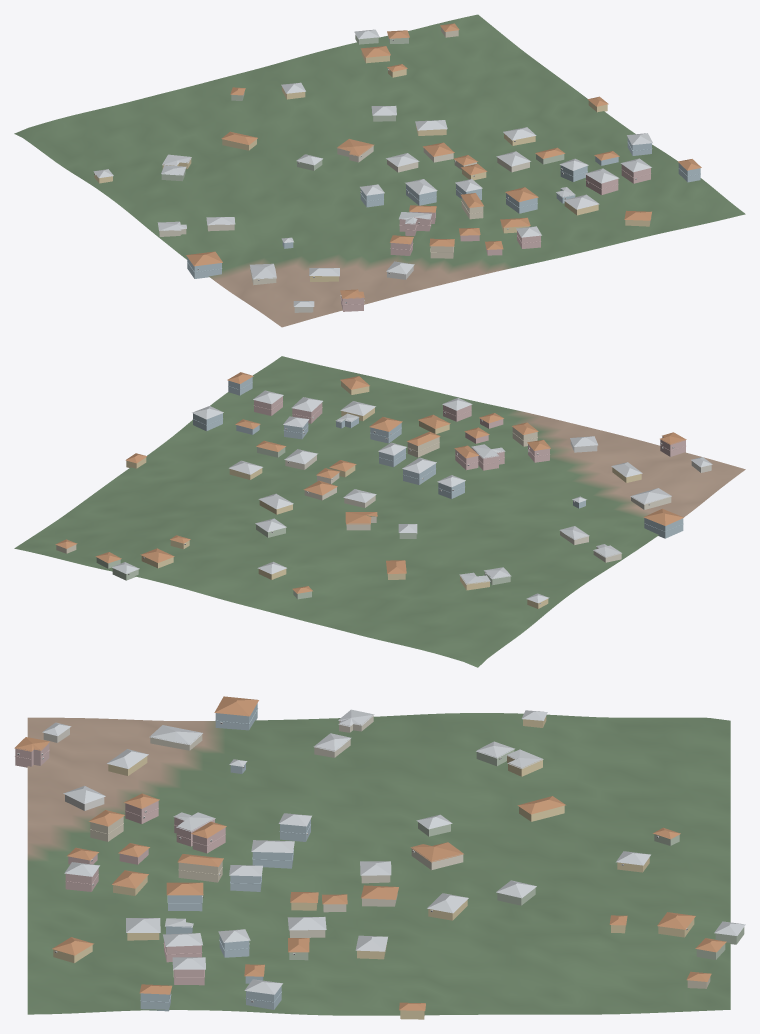
3 renders of one model, top to bottom at view 1: azimuth 30°, elevation 25°; view 2: azimuth 150°, elevation 25°; view 3: azimuth 270°, elevation 25°, orthographic. The views are drawn at different scales.
Parts seen in each view (by area): view 1: Terrain-col, Buildings-col, Details; view 2: Terrain-col, Buildings-col, Details; view 3: Terrain-col, Buildings-col, Details.
Boxes of the visible parts, x1=… form: Terrain-col: x1=14, y1=14, x2=745, y2=327; Buildings-col: x1=93, y1=23, x2=701, y2=312; Details: x1=94, y1=34, x2=700, y2=305; Terrain-col: x1=14, y1=356, x2=745, y2=667; Buildings-col: x1=55, y1=372, x2=712, y2=608; Details: x1=128, y1=382, x2=685, y2=604; Terrain-col: x1=27, y1=713, x2=730, y2=1015; Buildings-col: x1=14, y1=696, x2=745, y2=1019; Details: x1=15, y1=708, x2=687, y2=1002.
Bounding box in the file's own units: 266 × 12.3 × 267.
